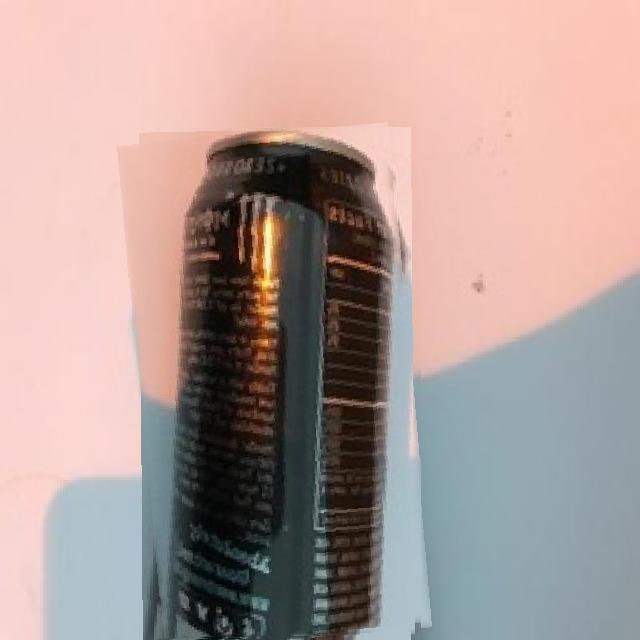recyclable: (128, 127, 421, 640)
